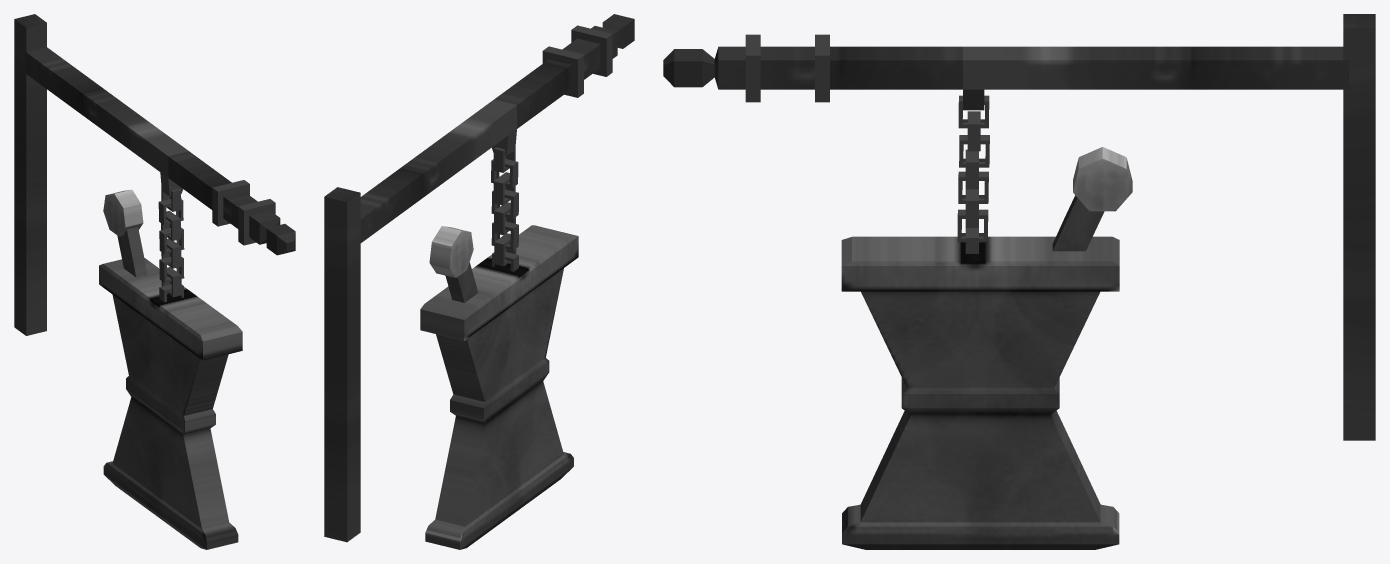
File: Sign_361x0.obj
The picture shows the model from 3 angles, left to right: view 1: azimuth 30°, elevation 25°; view 2: azimuth 150°, elevation 25°; view 3: azimuth 270°, elevation 25°; orthographic projection. The views are drawn at different scales.
Visible parts, largest first — view 1: Sign_361x0; view 2: Sign_361x0; view 3: Sign_361x0.
Part boxes in pixels (<box>): Sign_361x0: <box>14,14,295,549</box>; Sign_361x0: <box>324,14,634,549</box>; Sign_361x0: <box>663,14,1375,549</box>.
Size of the model in its own units: 0.1457 by 1.36 by 1.68.
